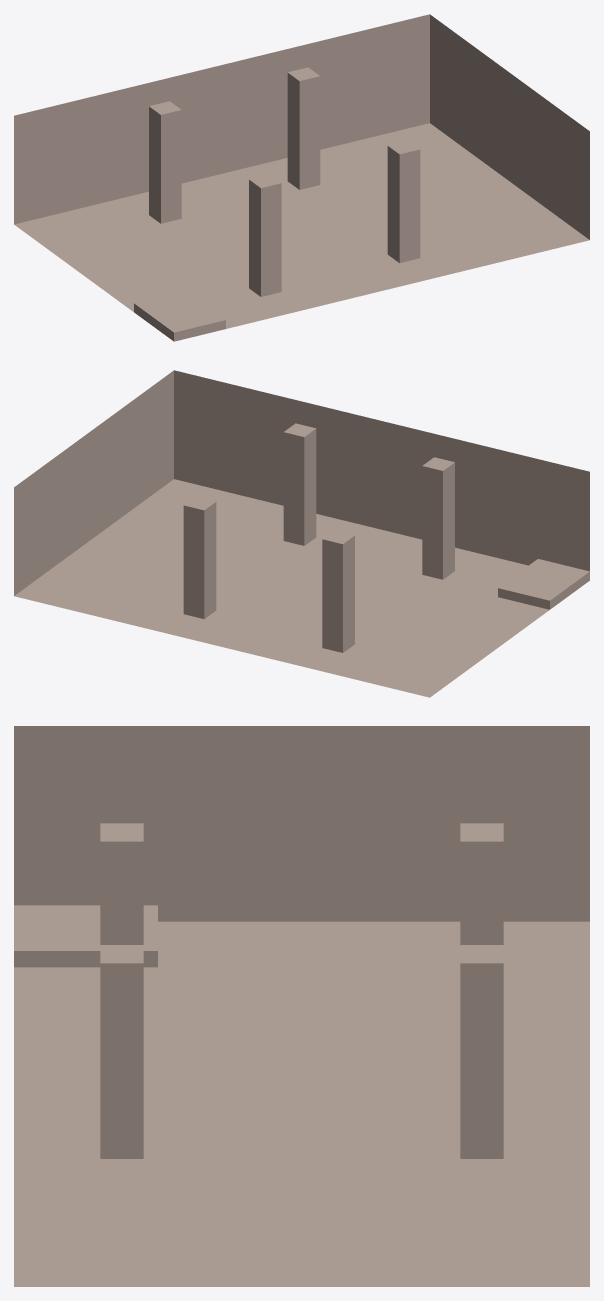
The model's file is room.glb.
3 renders of one model, top to bottom at view 1: azimuth 30°, elevation 25°; view 2: azimuth 150°, elevation 25°; view 3: azimuth 270°, elevation 25°, orthographic. The views are drawn at different scales.
Visible parts, largest first — view 1: chamber; view 2: chamber; view 3: chamber.
Part boxes in pixels (left/top/right/bottom): chamber: left=14, top=14, right=589, bottom=341; chamber: left=14, top=370, right=589, bottom=697; chamber: left=14, top=726, right=589, bottom=1286.
Size of the model in its own units: 24 by 6 by 16.
